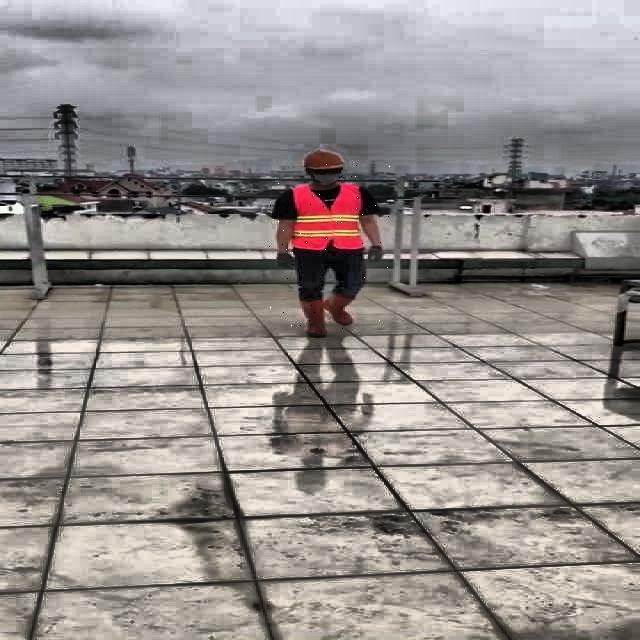safety_helmet: (303, 148, 347, 171)
safety_jacket: (289, 184, 366, 251)
